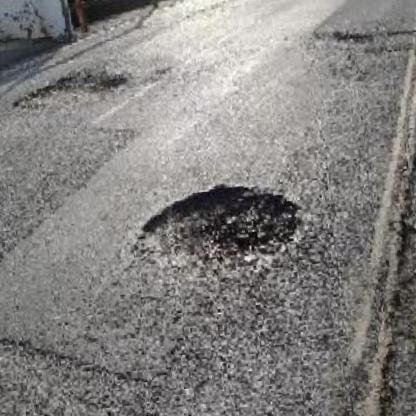pothole: (124, 170, 311, 287), (7, 62, 129, 113)
